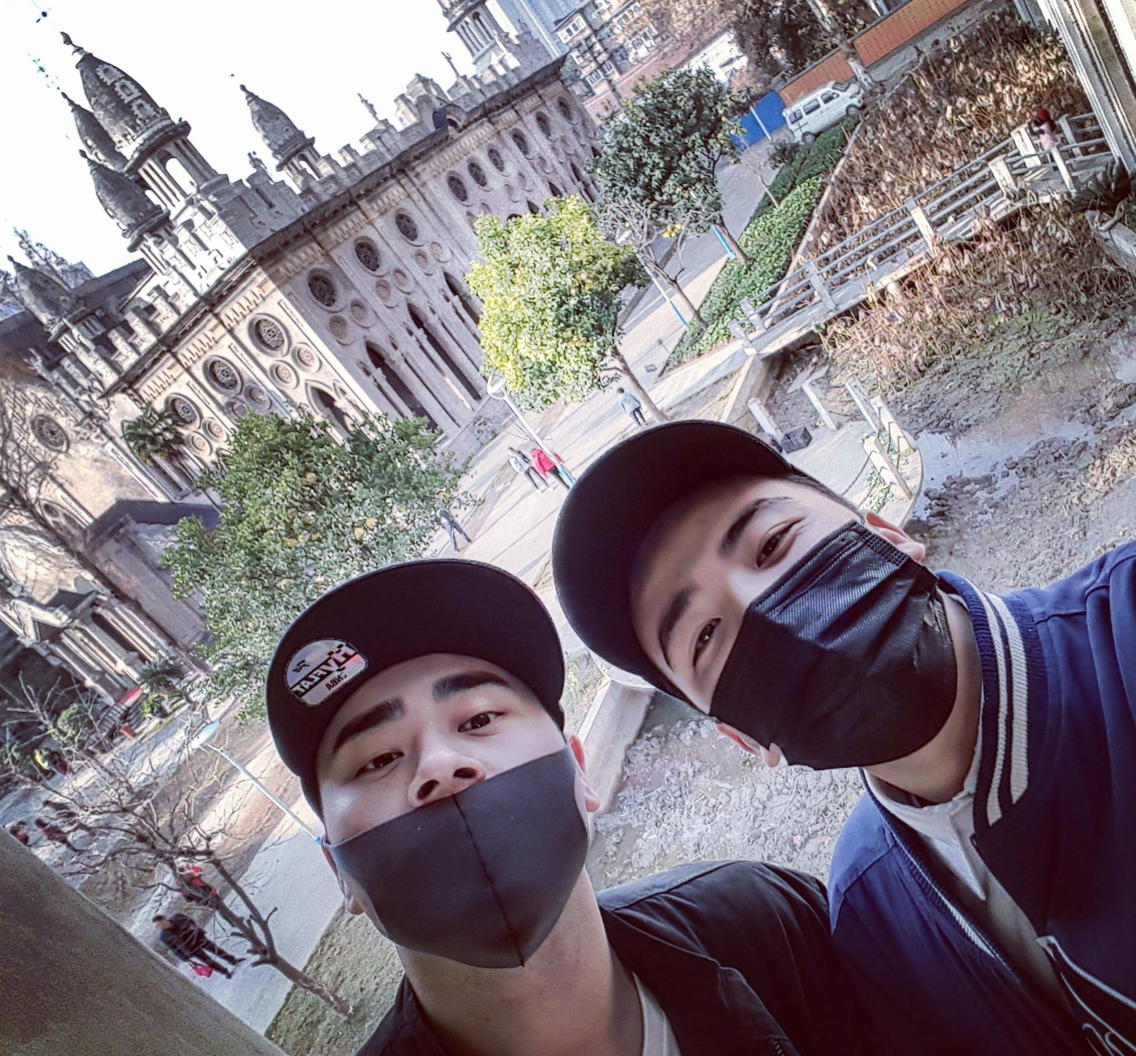OK: (661, 480, 949, 768)
WRONG: (317, 666, 620, 970)
